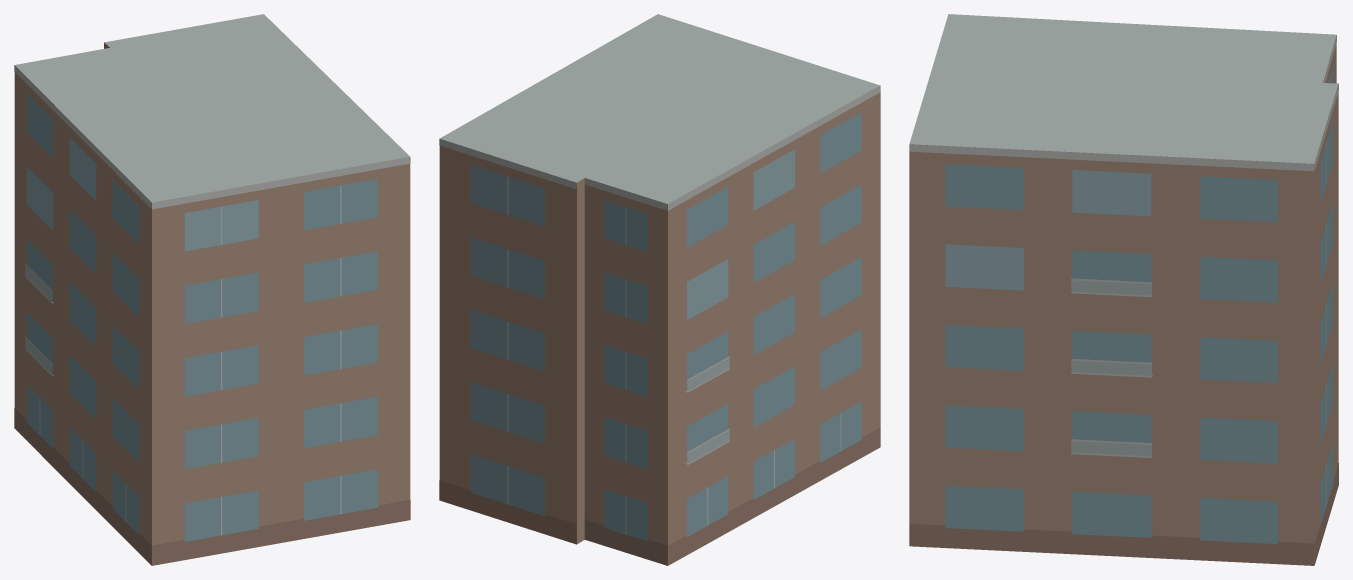
The model's file is survey-upis-32955416.glb.
3 views of the same model, side by side, from view 1: azimuth 30°, elevation 25°; view 2: azimuth 150°, elevation 25°; view 3: azimuth 270°, elevation 25° (orthographic). The views are drawn at different scales.
Visible parts, largest first — view 1: survey-upis-32955416.tmp; view 2: survey-upis-32955416.tmp; view 3: survey-upis-32955416.tmp.
Boxes of the visible parts, x1,y1,x2,y2 form: survey-upis-32955416.tmp: (14, 14, 410, 565); survey-upis-32955416.tmp: (439, 14, 880, 565); survey-upis-32955416.tmp: (909, 14, 1338, 565).
Size of the model in its own units: 10.48 by 13.1 by 12.69.
